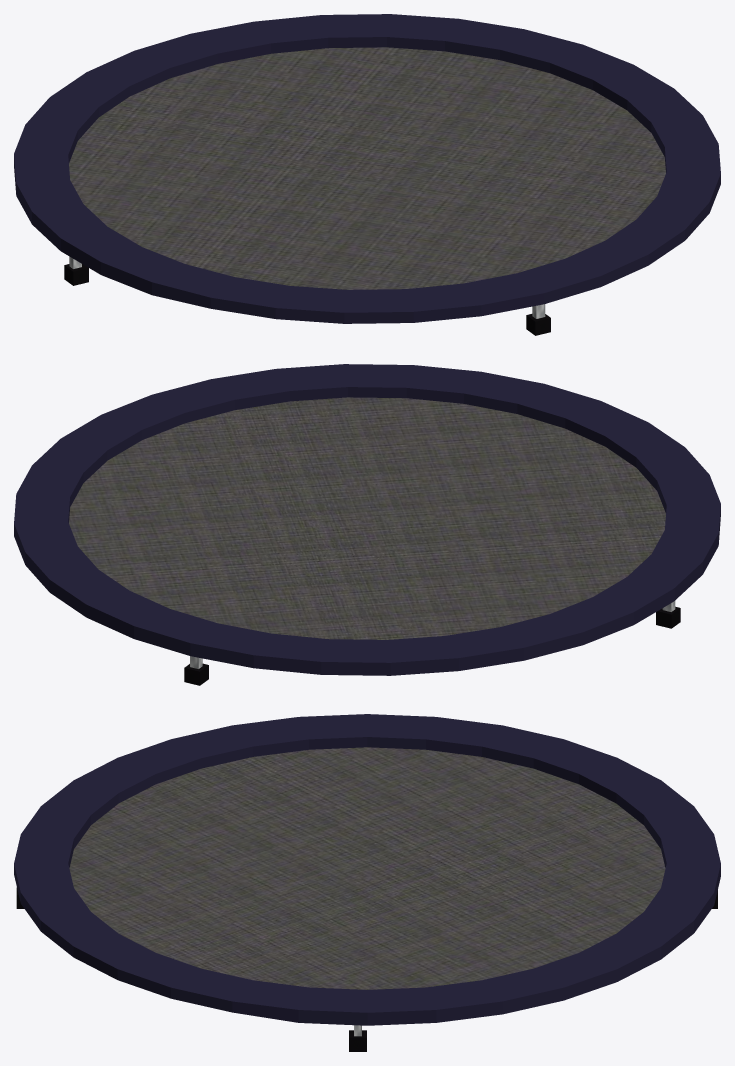
Rendered from trampoline.glb.
The picture shows the model from 3 angles, top to bottom: view 1: azimuth 30°, elevation 25°; view 2: azimuth 150°, elevation 25°; view 3: azimuth 270°, elevation 25°; orthographic projection.
Parts seen in each view (by area): view 1: Object_16, Object_6; view 2: Object_16, Object_6; view 3: Object_16, Object_6.
Boxes of the visible parts, x1,y1,x2,y2 form: Object_16: (69, 47, 665, 289); Object_6: (14, 14, 720, 323); Object_16: (69, 397, 665, 639); Object_6: (14, 364, 720, 675); Object_16: (69, 747, 665, 989); Object_6: (14, 714, 720, 1025).
Size of the model in its own units: 24.41 by 1.59 by 24.41.
Materials: 6 (6 with a texture image).
